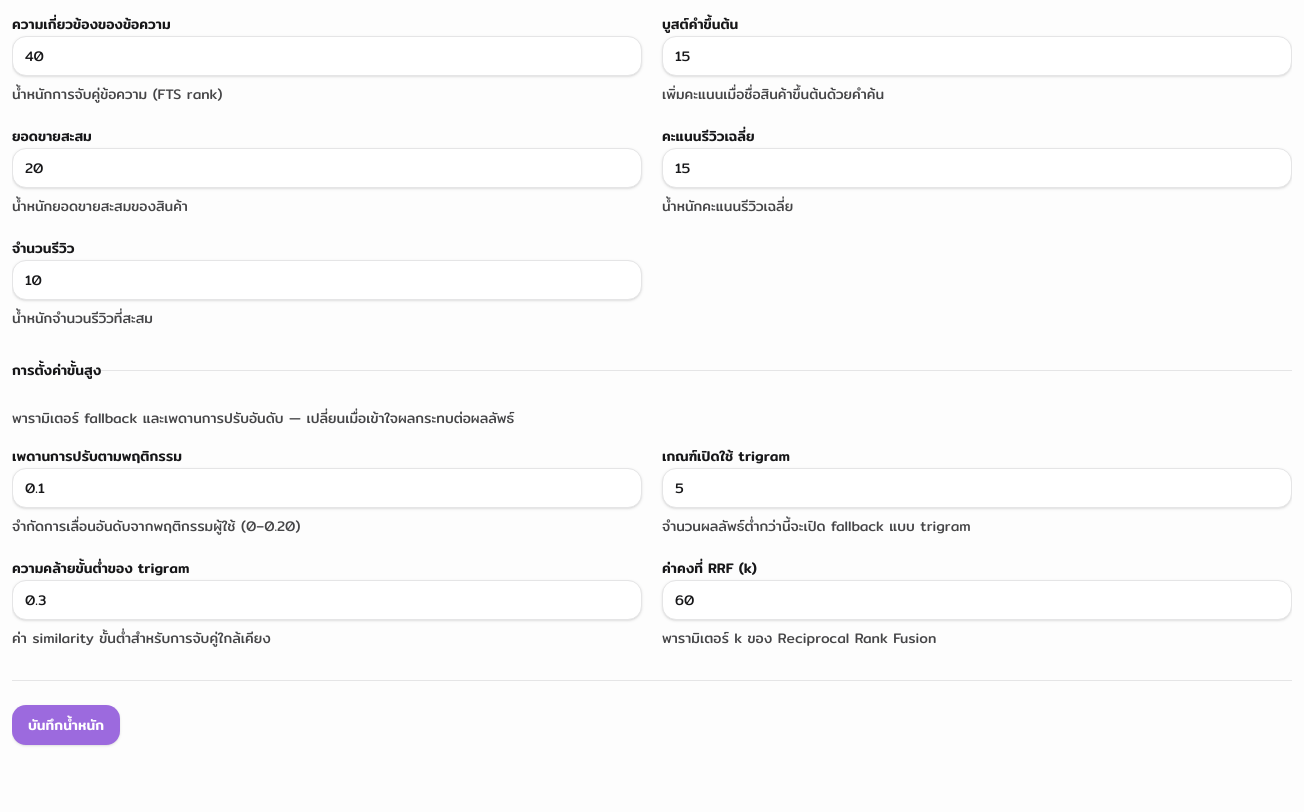
Test case: SearchRankingWeightForm › shows validation error for out-of-range personalization cap
Replace the text in the number field labelled "เพดานการปรับตามพฤติกรรม" with "0.5" at (327, 488), box [12,468,642,508]
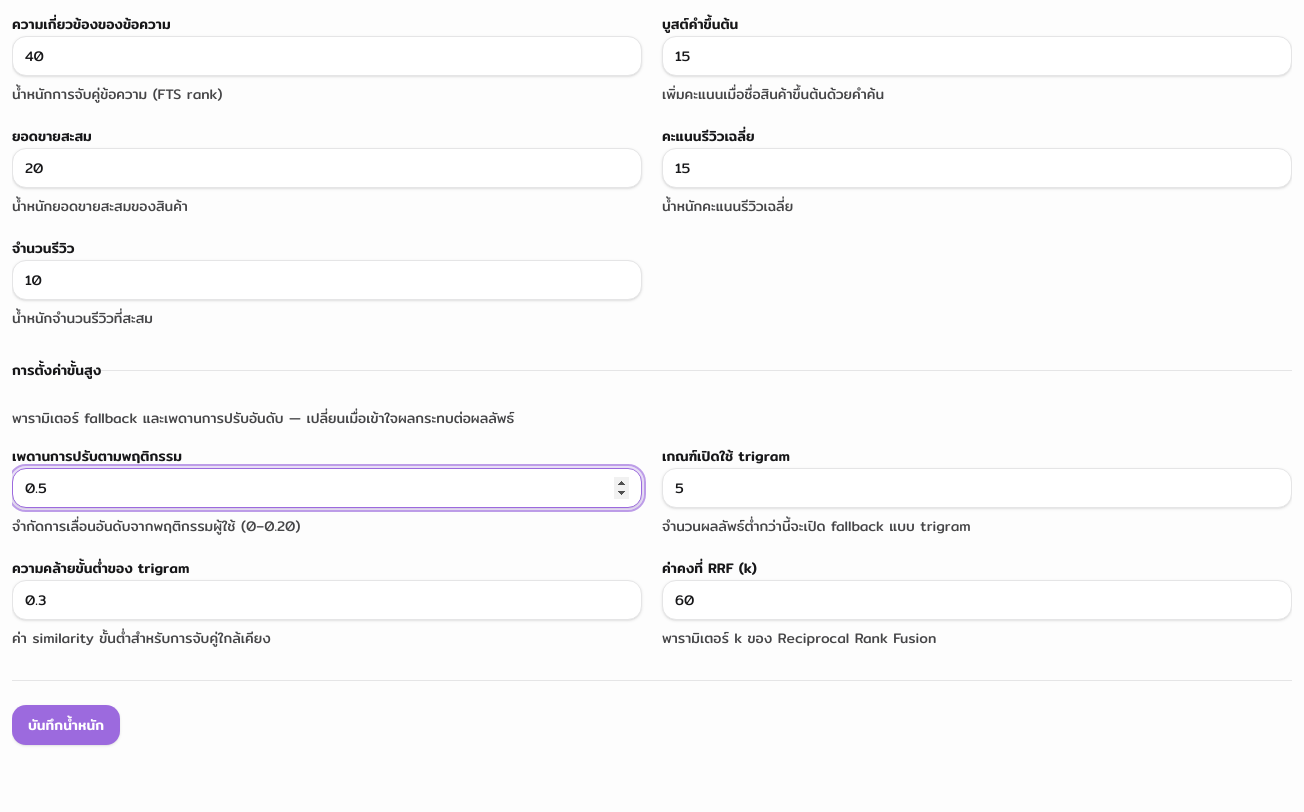
Click the button "บันทึกน้ำหนัก".
click(66, 725)  # box [12,705,120,745]
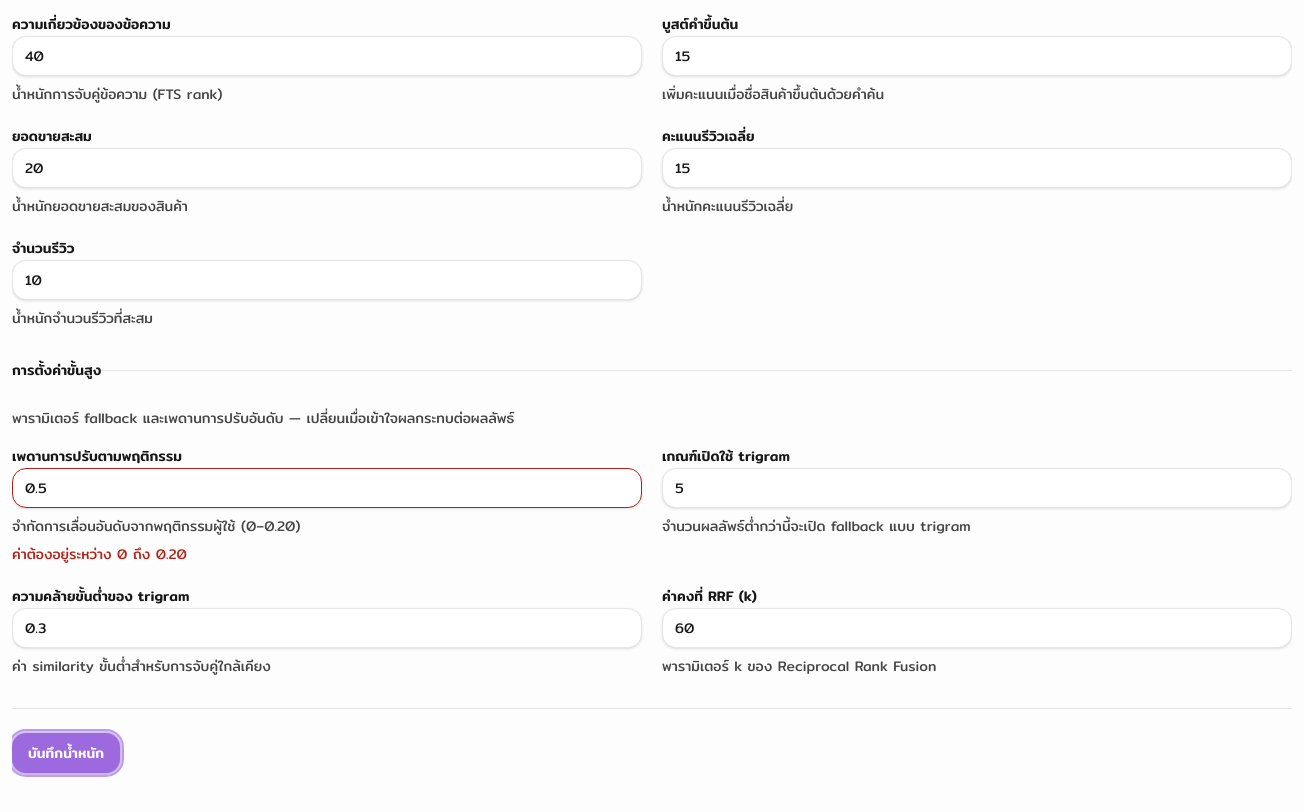
Check: the text "ค่าต้องอยู่ระหว่าง 0 ถึง 0.20" is shown, box [12,543,187,565]
